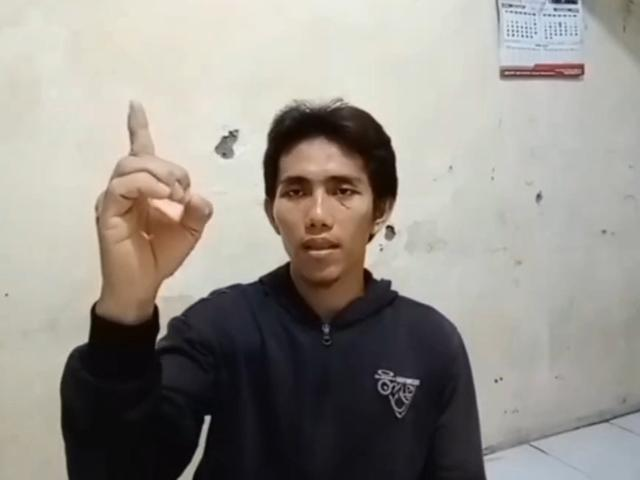D: (90, 96, 218, 290)
